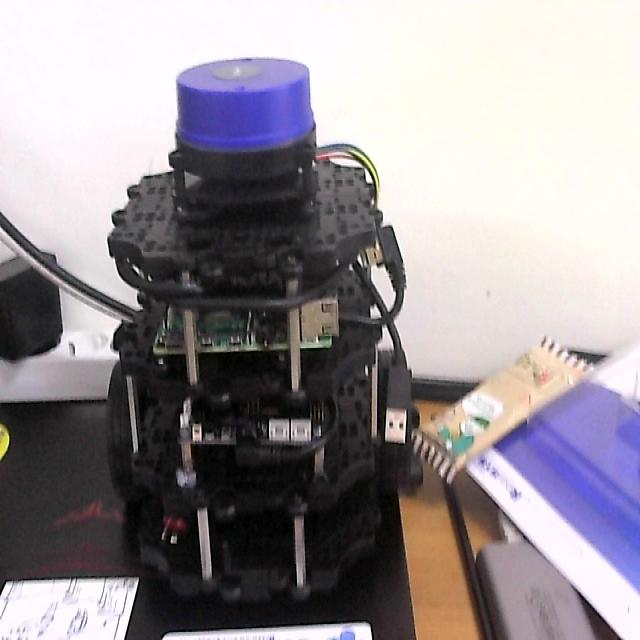turtle: (103, 55, 413, 611)
